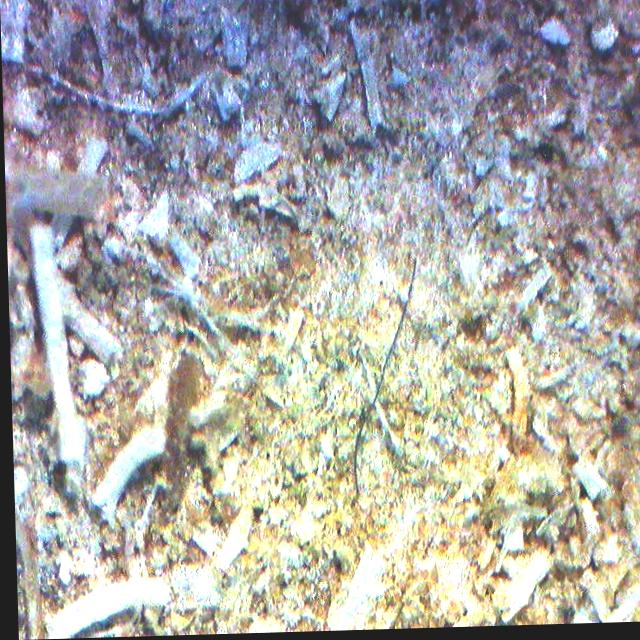microplastic: (340, 257, 418, 496)
